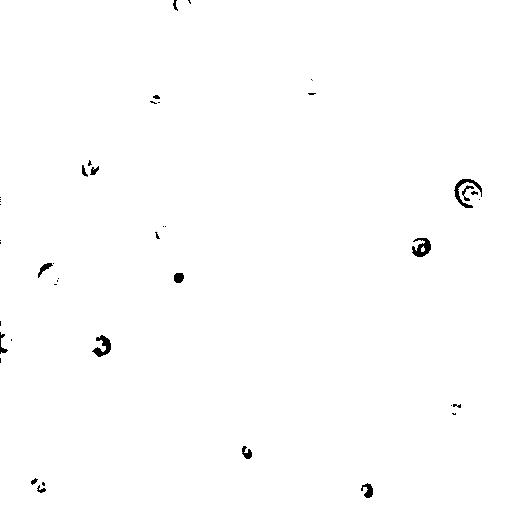micro-algae: (359, 49, 417, 109), (13, 464, 59, 505), (160, 259, 198, 295), (27, 260, 63, 291), (452, 177, 485, 209), (1, 324, 24, 361), (406, 235, 433, 259), (298, 73, 325, 95), (153, 224, 177, 247), (91, 333, 113, 358), (81, 155, 101, 179), (171, 0, 192, 14), (361, 481, 375, 498), (241, 443, 253, 459)
